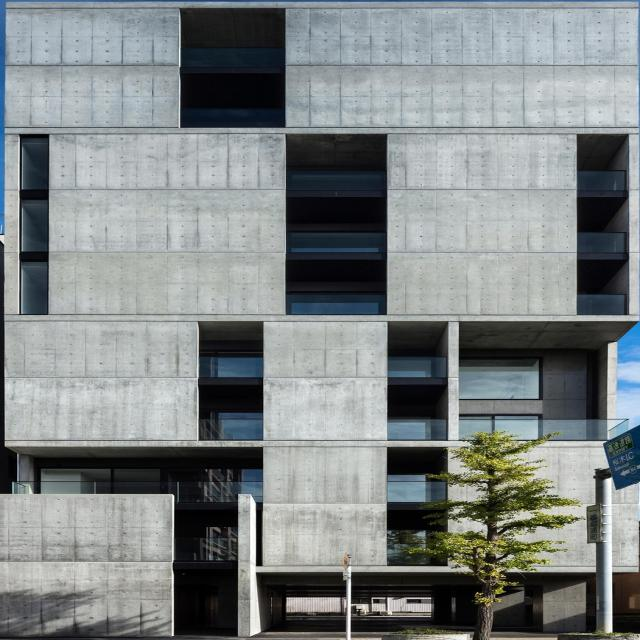Railing: (17, 480, 264, 502), (456, 418, 628, 441), (283, 295, 384, 316), (181, 107, 286, 127), (288, 170, 392, 190), (180, 48, 285, 67), (290, 232, 386, 251), (196, 354, 264, 379), (174, 536, 240, 561), (386, 543, 451, 567), (199, 418, 265, 440), (385, 419, 449, 441), (384, 356, 450, 377), (388, 480, 448, 501), (576, 170, 628, 192), (574, 295, 628, 315), (576, 231, 625, 253)
plant: (389, 431, 586, 640)
wall: (0, 5, 640, 639)
windows: (457, 355, 546, 402), (35, 466, 263, 481), (386, 473, 430, 480)
